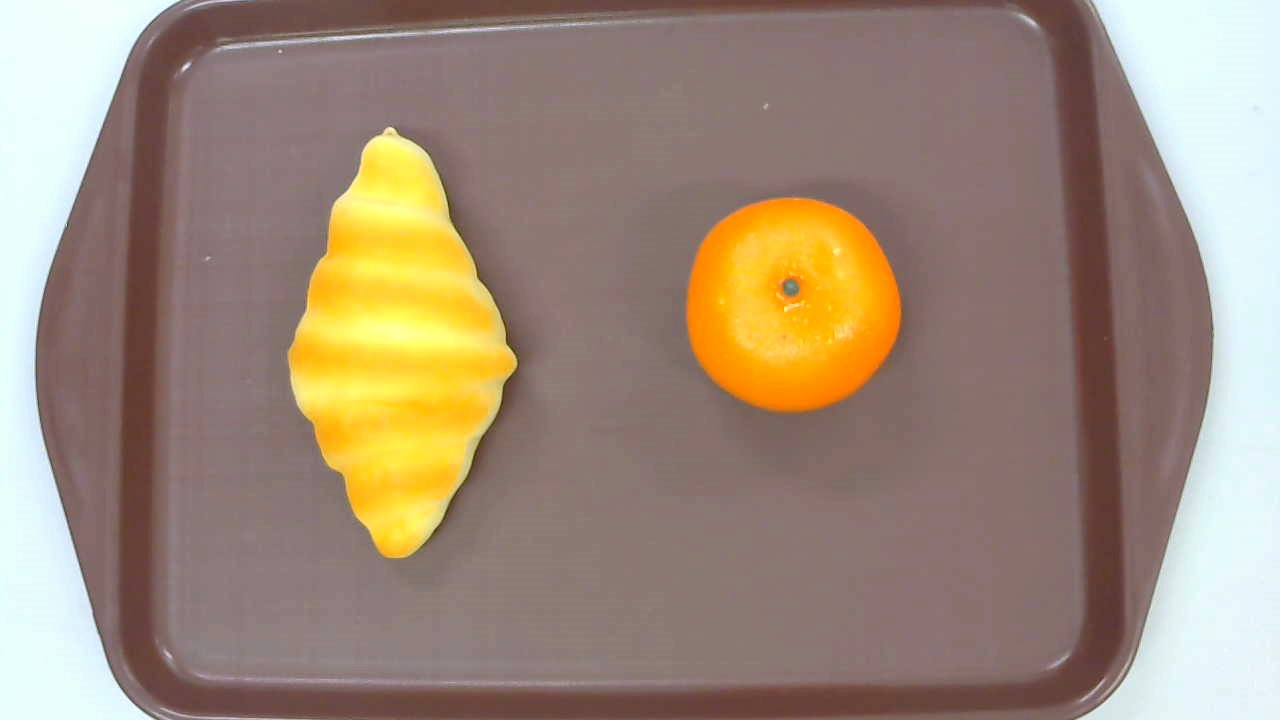croissant: (287, 126, 521, 557)
orange: (685, 194, 901, 413)
